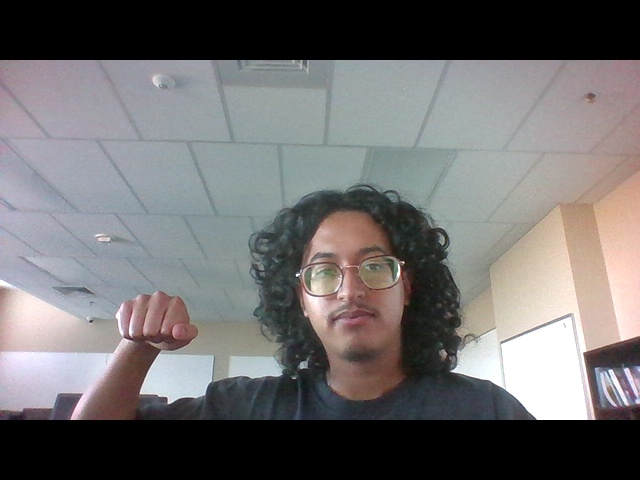yes: (112, 282, 210, 356)
